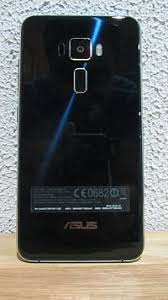asus: (15, 13, 146, 265)
